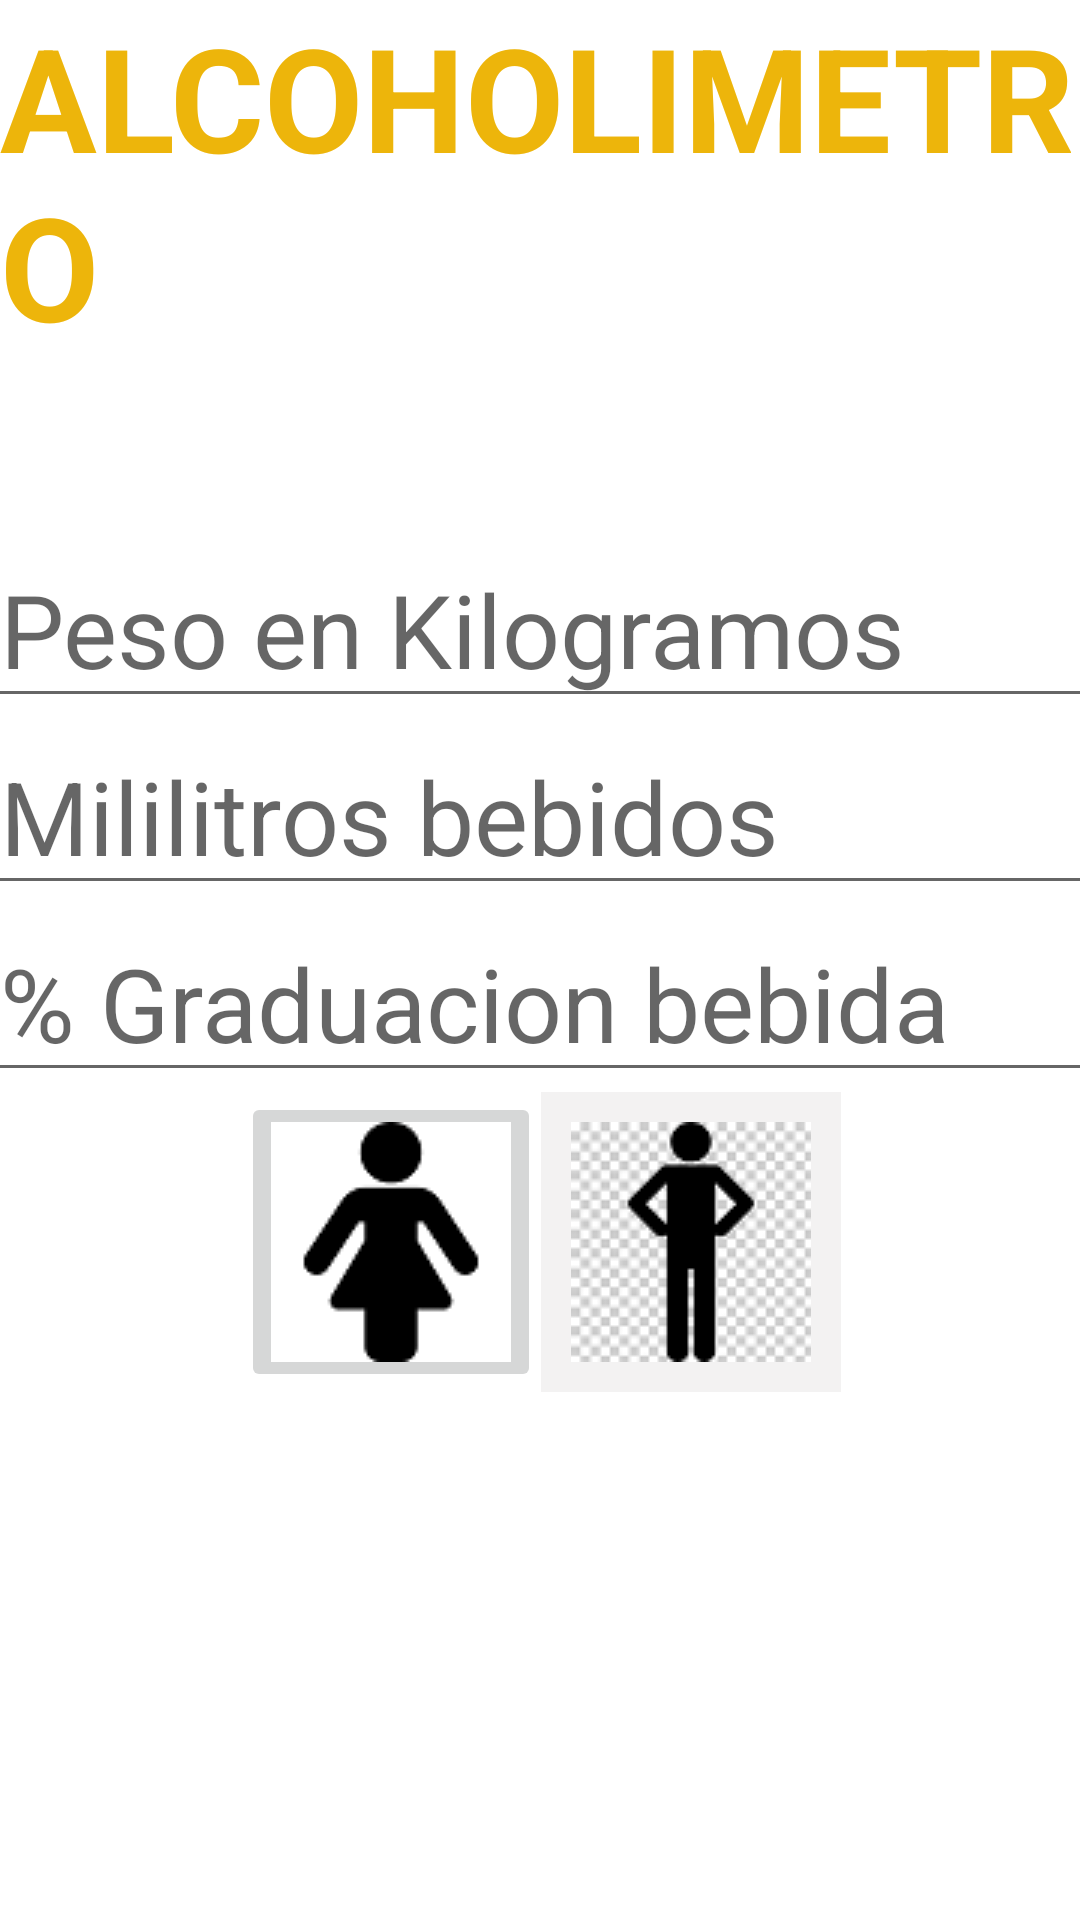

Icon click points for this 1080x1920 phone screenshot, format (x=x, y=y):
hombre: (x=691, y=1242)
mujer: (x=391, y=1242)
